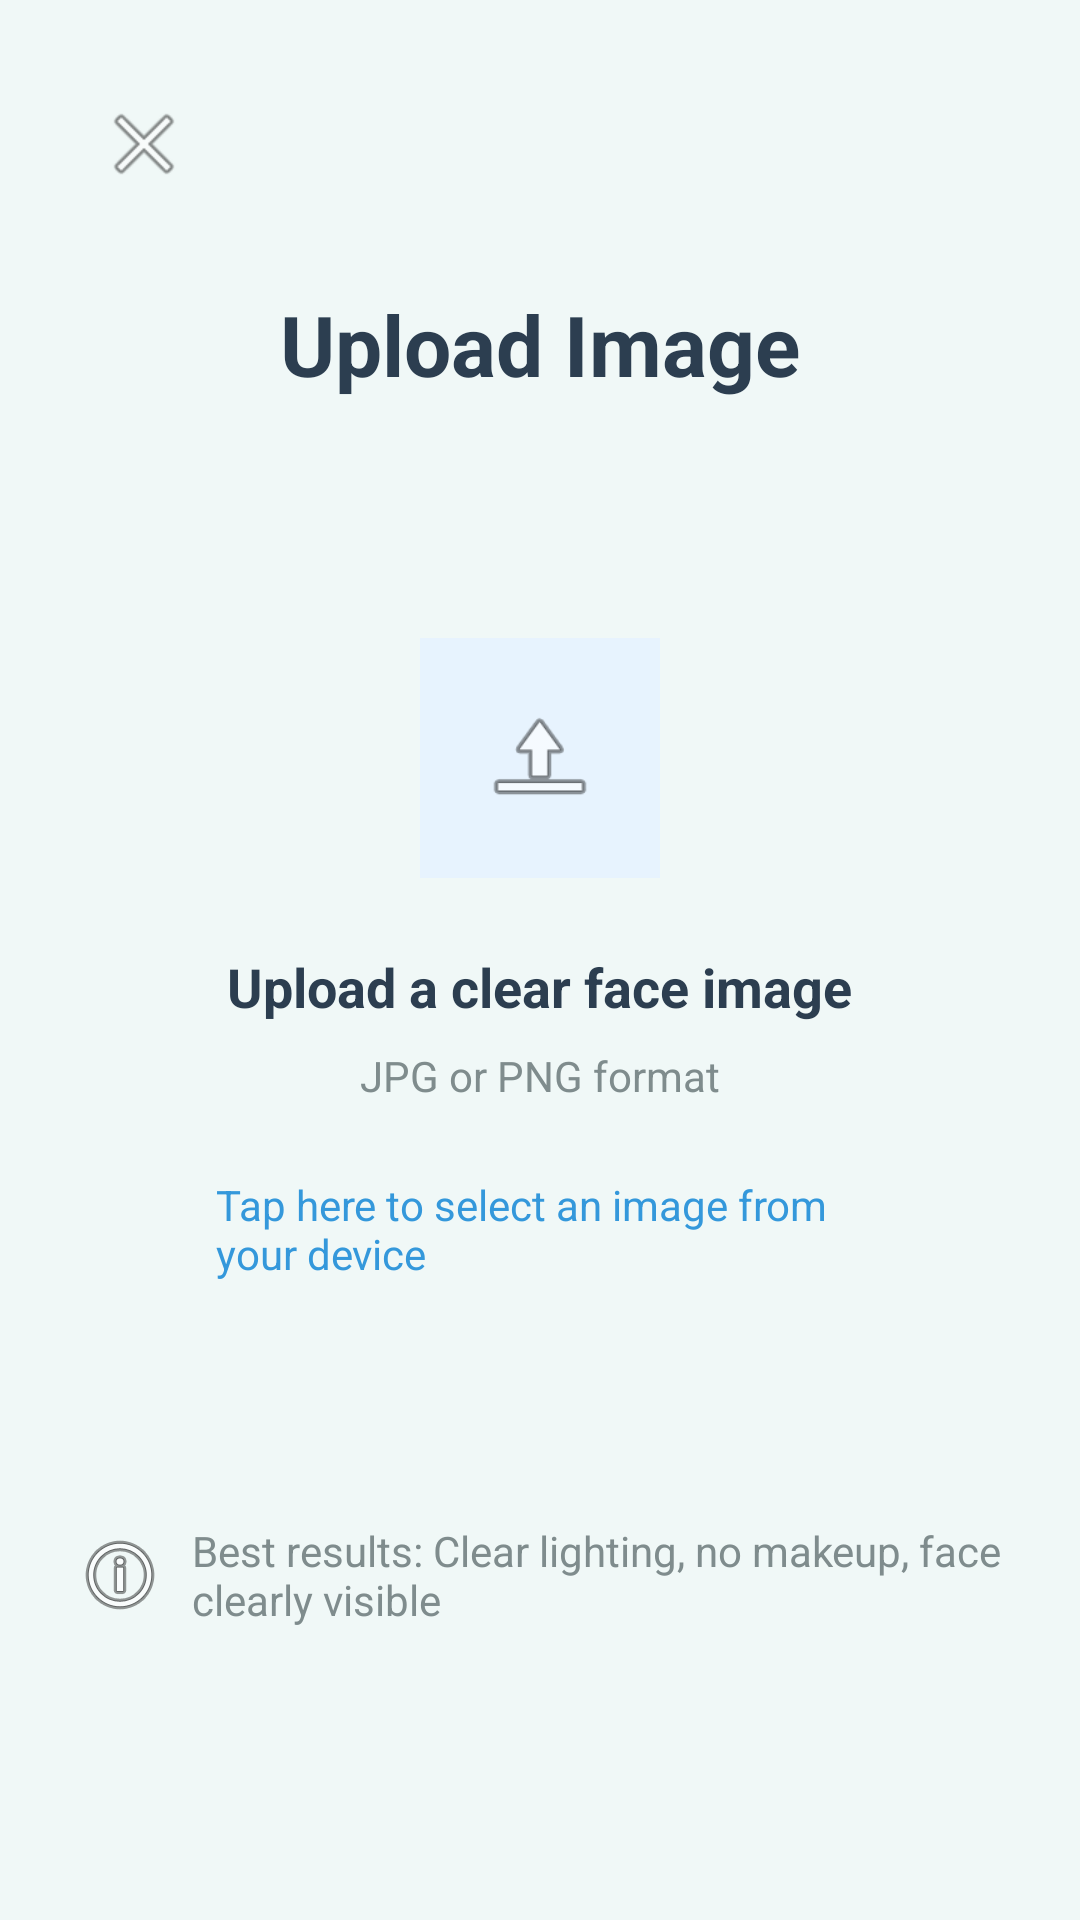

Point at icon controls on the screen. Image size 1080×1920, points as point (x, y).
close clear cancel: point (144, 144)
